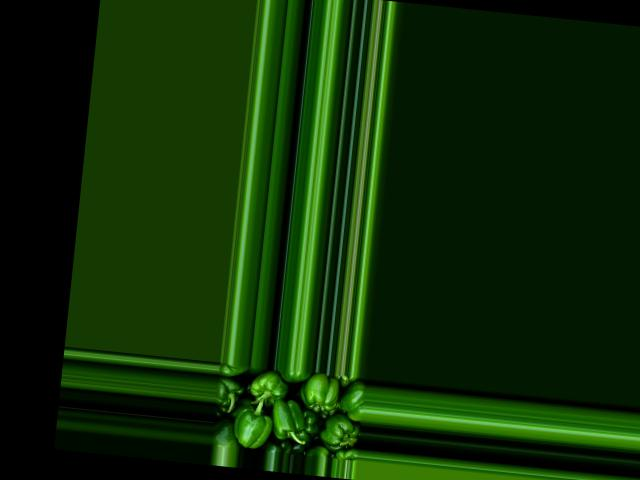bell_pepper: (210, 418, 246, 449)
